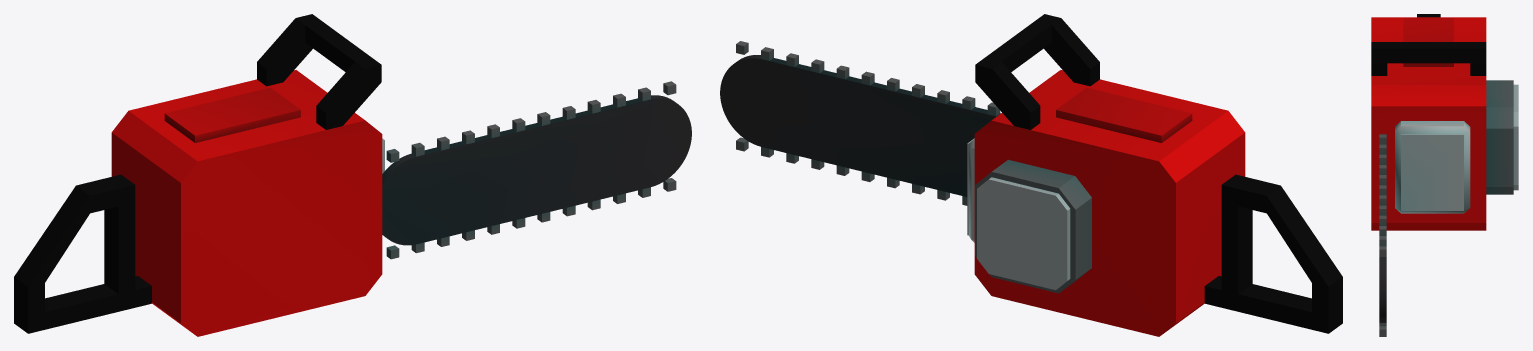
3 views of the same model, side by side, from view 1: azimuth 30°, elevation 25°; view 2: azimuth 150°, elevation 25°; view 3: azimuth 270°, elevation 25° (orthographic). The views are drawn at different scales.
Visible parts, largest first — view 1: casing, bar, rear_handle, handle_support, top_step; view 2: casing, bar, rear_handle, cover_face, handle_support, top_step, cover_base, front_base; view 3: casing, front_face, cover_base, handle_support, front_base, top_step, cover_face, bar.
Part boxes in pixels (x1,y1,x2,y2): casing: (111, 70, 382, 336); bar: (382, 95, 691, 245); rear_handle: (14, 174, 151, 333); handle_support: (257, 14, 381, 129); top_step: (164, 87, 300, 142); casing: (974, 70, 1245, 336); bar: (720, 55, 1000, 196); rear_handle: (1204, 174, 1342, 333); cover_face: (977, 177, 1070, 290); handle_support: (975, 14, 1099, 129); top_step: (1056, 87, 1192, 142); cover_base: (975, 159, 1091, 293); front_base: (968, 139, 974, 242); casing: (1371, 17, 1486, 230); front_face: (1401, 134, 1463, 210); cover_base: (1486, 80, 1513, 194); handle_support: (1371, 42, 1486, 75); front_base: (1395, 121, 1470, 213); top_step: (1403, 18, 1453, 66); cover_face: (1513, 84, 1518, 190); bar: (1379, 257, 1386, 322).
Bounding box in the file's own units: 0.4967 × 0.1684 × 0.1192.
